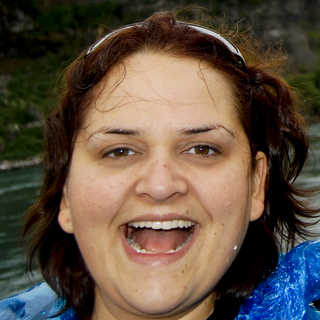eye: (172, 135, 228, 167), (92, 140, 148, 166)
